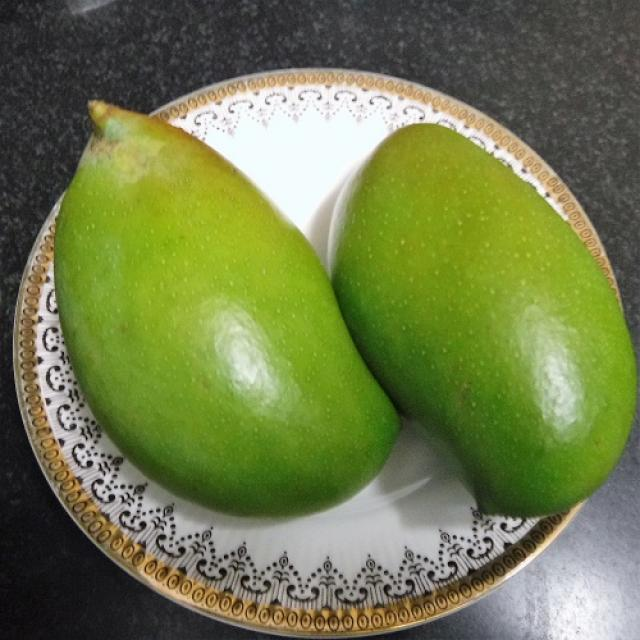raw-image: (36, 91, 404, 510), (325, 112, 640, 527)
